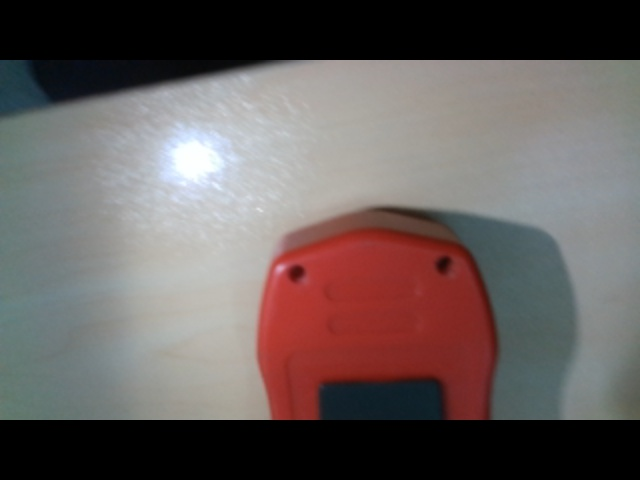Screw holes: (434, 253, 459, 278), (286, 263, 309, 285)
